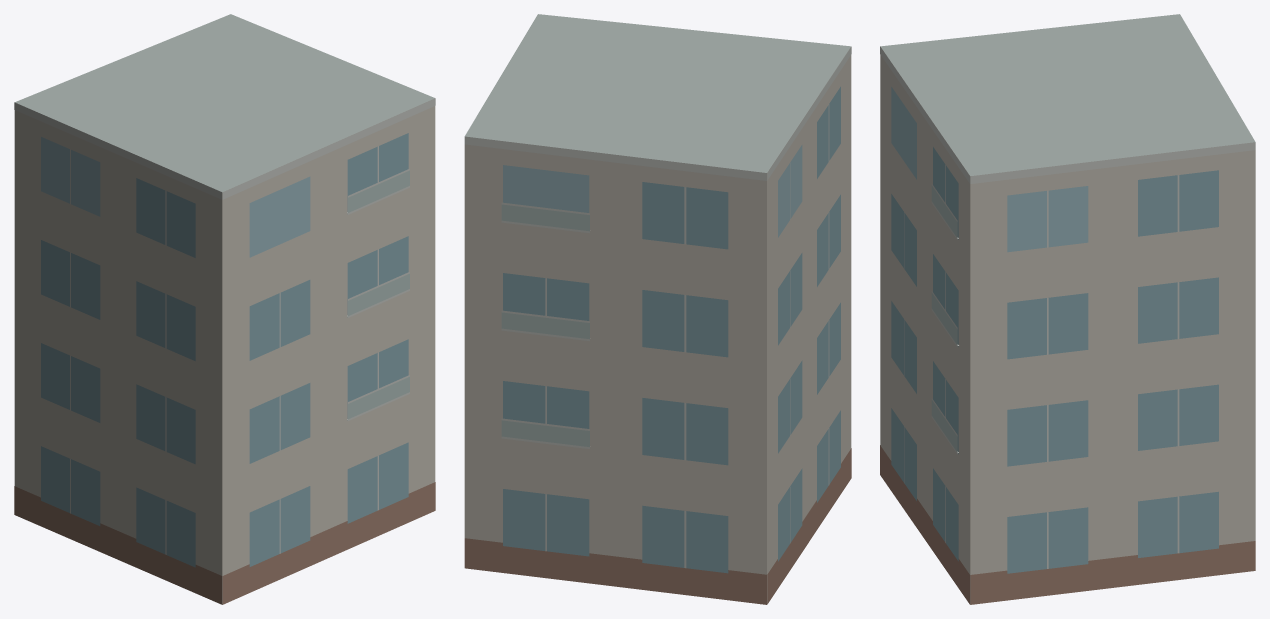
The model's file is survey-upis-32982669.glb.
3 views of the same model, side by side, from view 1: azimuth 30°, elevation 25°; view 2: azimuth 150°, elevation 25°; view 3: azimuth 270°, elevation 25° (orthographic). The views are drawn at different scales.
Parts seen in each view (by area): view 1: survey-upis-32982669.tmp; view 2: survey-upis-32982669.tmp; view 3: survey-upis-32982669.tmp.
Part boxes in pixels (left/top/right/bottom): survey-upis-32982669.tmp: left=14, top=14, right=435, bottom=604; survey-upis-32982669.tmp: left=464, top=14, right=851, bottom=604; survey-upis-32982669.tmp: left=880, top=14, right=1255, bottom=604.
Size of the model in its own units: 10.76 by 13.25 by 10.53.
